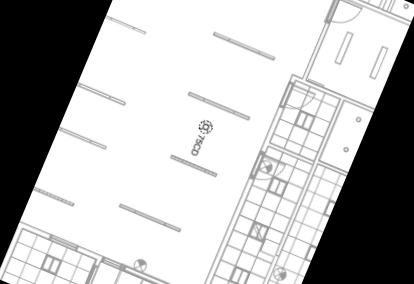door: (280, 81, 319, 122), (324, 0, 366, 35), (251, 152, 288, 191), (166, 281, 197, 284)
double door: (110, 265, 169, 284)
window: (44, 228, 84, 257), (100, 251, 130, 276)
